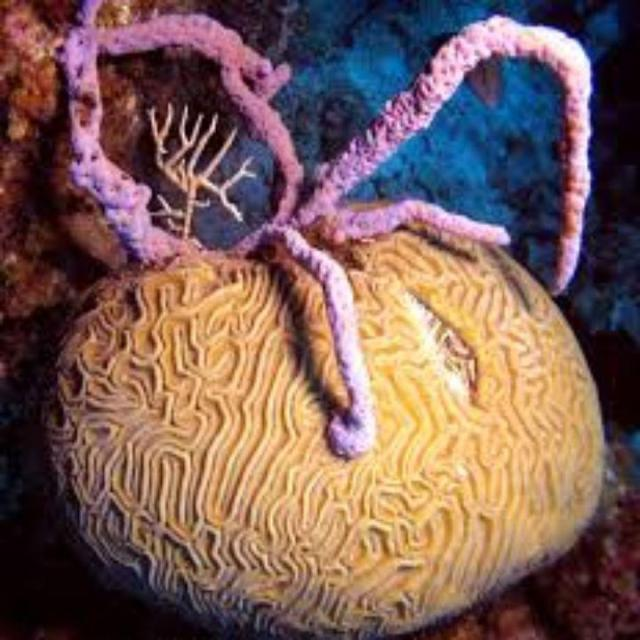Healthy Coral: (38, 157, 618, 625)
